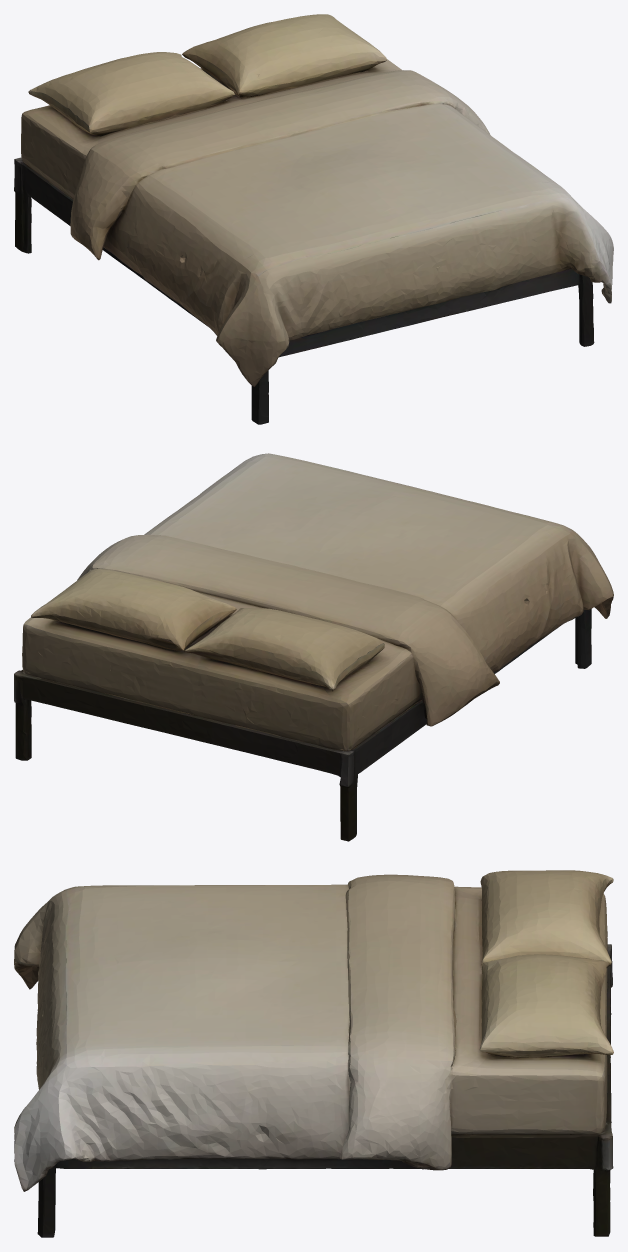
The model's file is ast_dcd3feda0d96.glb.
The picture shows the model from 3 angles, top to bottom: view 1: azimuth 30°, elevation 25°; view 2: azimuth 150°, elevation 25°; view 3: azimuth 270°, elevation 25°; orthographic projection. The views are drawn at different scales.
Visible parts, largest first — view 1: geometry_0; view 2: geometry_0; view 3: geometry_0.
Boxes of the visible parts, x1,y1,x2,y2 form: geometry_0: (14,14,613,424); geometry_0: (14,453,613,841); geometry_0: (14,870,613,1237).
Size of the model in its own units: 0.9105 by 0.3835 by 1.
1 material, 1 textured.
